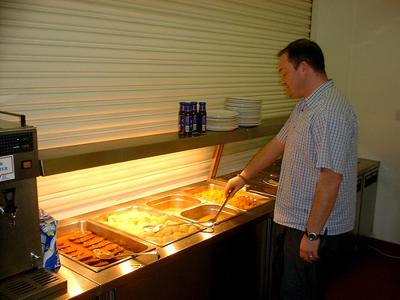person: (225, 38, 359, 299)
